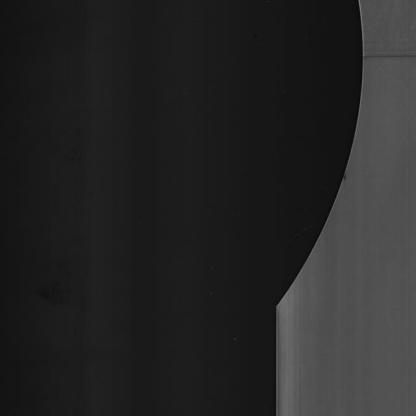crescent_gap: (260, 0, 370, 330)
welding_line: (356, 37, 416, 68)
